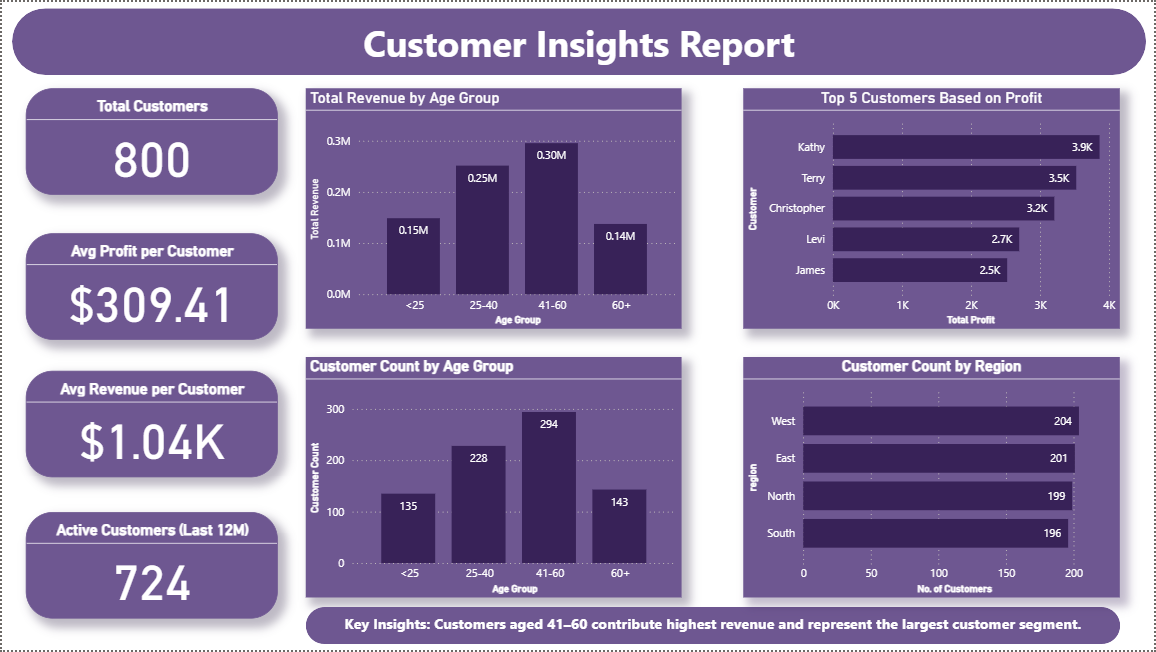

The page's visual inventory and layout, read from the dashboard file:
{"tool":"powerbi","page":{"name":"Customer Insights Report","canvas":[1280,720],"ordinal":1},"visuals":[{"type":"card","title":"Total Customers","fields":{"Values":["Cleaned Customers.Customer Count"]},"box":[26.2,96.2,280,118.8],"z":0},{"type":"columnChart","fields":{"Y":["Cleaned Customers.Total Revenue"],"Category":["Cleaned Customers.Age Group"]},"box":[337.5,96.2,417.5,267.5],"z":1000},{"type":"barChart","title":"Top 5 Customers Based on Profit","fields":{"Category":["Cleaned Customers.first_name"],"Series":["Cleaned Customers.last_name"],"Y":["Cleaned Customers.Total Profit"]},"box":[823.8,96.2,418.8,267.5],"z":2000},{"type":"columnChart","fields":{"Y":["Cleaned Customers.Customer Count"],"Category":["Cleaned Customers.Age Group"]},"box":[337.5,395,417.5,267.5],"z":3000},{"type":"shape","box":[10.8,6.7,1260.1,74.1],"z":4000},{"type":"shape","box":[337.5,672.5,905,41.2],"z":5000},{"type":"card","title":"Avg Revenue per Customer","fields":{"Values":["Cleaned Customers.Avg Revenue per Customer"]},"box":[26.2,410,280,118.8],"z":6000},{"type":"card","title":"Avg Profit per Customer","fields":{"Values":["Cleaned Customers.Avg Profit per Customer"]},"box":[26.2,256.2,280,118.8],"z":7000},{"type":"barChart","title":" Customer Count by Region  ","fields":{"Category":["Cleaned Customers.region"],"Y":["Cleaned Customers.Customer Count"]},"box":[823.8,395,418.8,267.5],"z":8000},{"type":"card","title":"Active Customers (Last 12M)","fields":{"Values":["Cleaned Customers.Active Customers"]},"box":[26.2,566.2,280,118.8],"z":9000}]}

Visuals, with their boxes in screenshot pixels (x1, y1, x2, y2), scaled from the page's 1280x720 canvas onto the 1156x652 screenshot:
"Total Customers" card: x1=24, y1=87, x2=277, y2=195
columnChart - Cleaned Customers.Total Revenue x Cleaned Customers.Age Group: x1=305, y1=87, x2=682, y2=329
"Top 5 Customers Based on Profit" barChart: x1=744, y1=87, x2=1122, y2=329
columnChart - Cleaned Customers.Customer Count x Cleaned Customers.Age Group: x1=305, y1=358, x2=682, y2=600
shape: x1=10, y1=6, x2=1148, y2=73
shape: x1=305, y1=609, x2=1122, y2=646
"Avg Revenue per Customer" card: x1=24, y1=371, x2=277, y2=479
"Avg Profit per Customer" card: x1=24, y1=232, x2=277, y2=340
" Customer Count by Region  " barChart: x1=744, y1=358, x2=1122, y2=600
"Active Customers (Last 12M)" card: x1=24, y1=513, x2=277, y2=620
